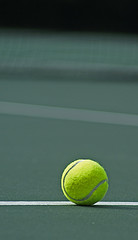tennis ball: (60, 157, 111, 208)
